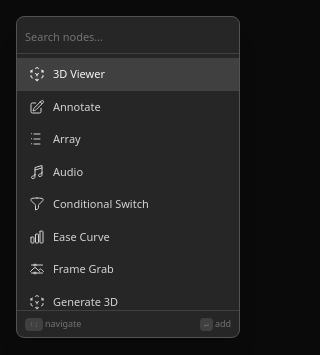
NodeSearchMenu › filters the list by the search query
The width and height of the screenshot is (320, 355).
Type "video" into the field labelled "Search nodes" at (128, 37), box [25,29,231,46]
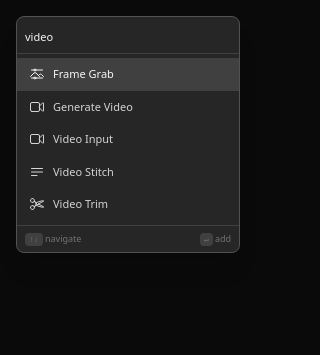
Expected: the button "Generate Video" is shown, [17,90,239,123]
